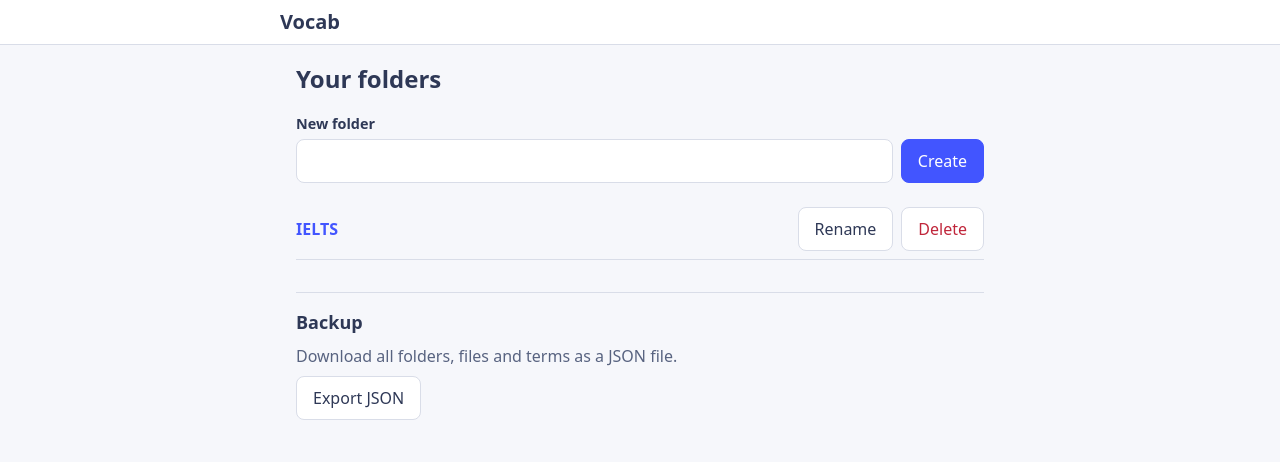
Test: folders › renames in place, and Escape cancels
The image size is (1280, 462).
Click the button named "Rename folder \"IELTS\"". click: x=845, y=229
box: [798,207,893,251]
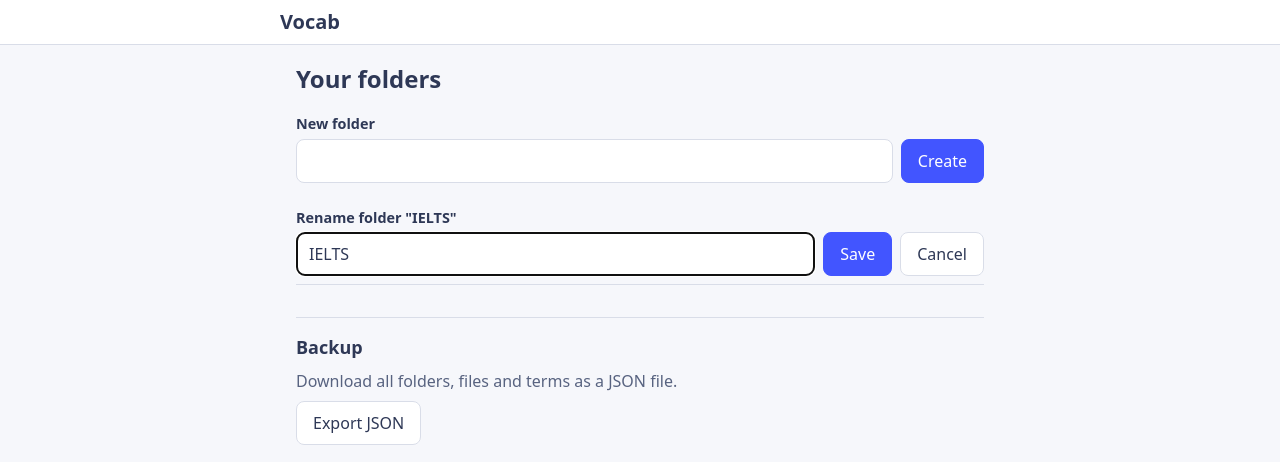
Press Escape in the field labelled "Rename folder \"IELTS\"", box [296,232,815,276]
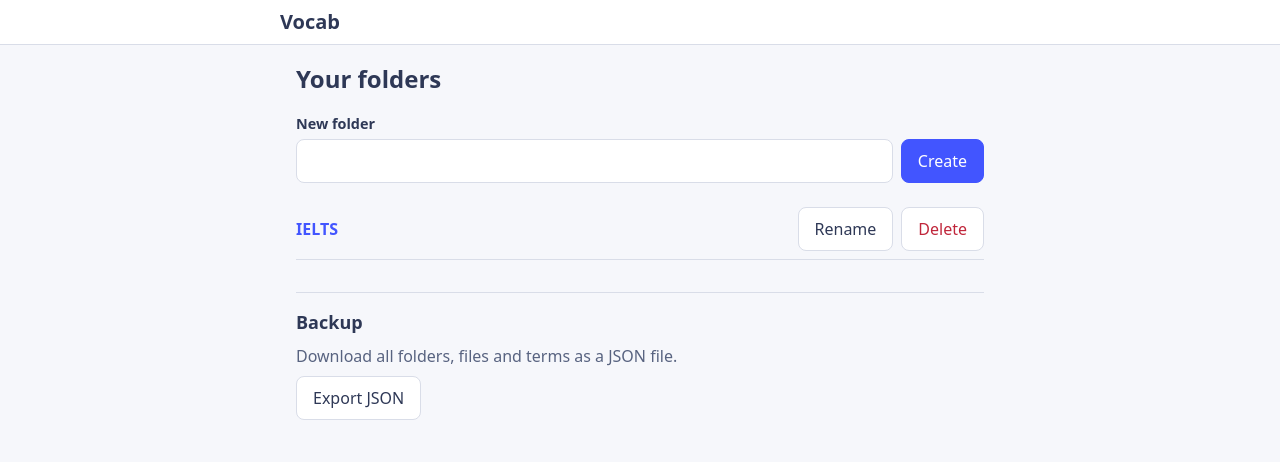
Click the button named "Rename folder \"IELTS\"". click: x=845, y=229
box: [798,207,893,251]
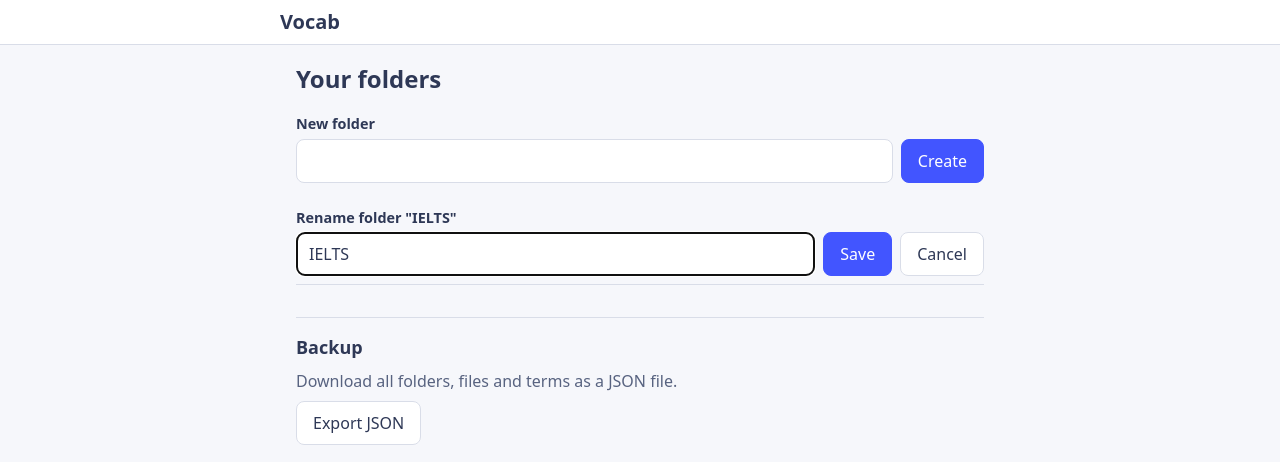
Replace the text in the field labelled "Rename folder \"IELTS\"" with "IELTS Writing". click: x=556, y=254
box: [296,232,815,276]
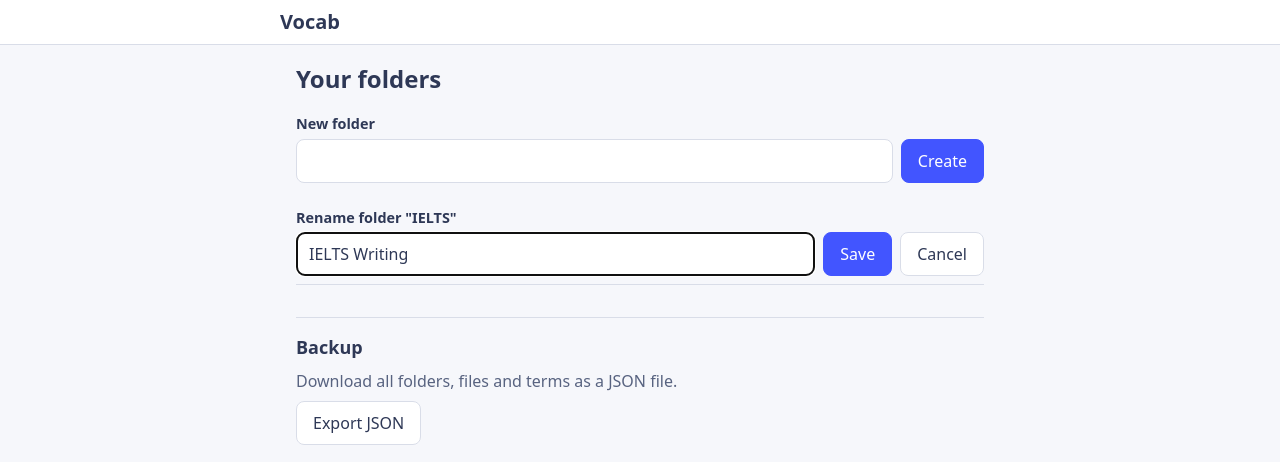
Click the button "Save". click: x=858, y=254
box: [823,232,892,276]
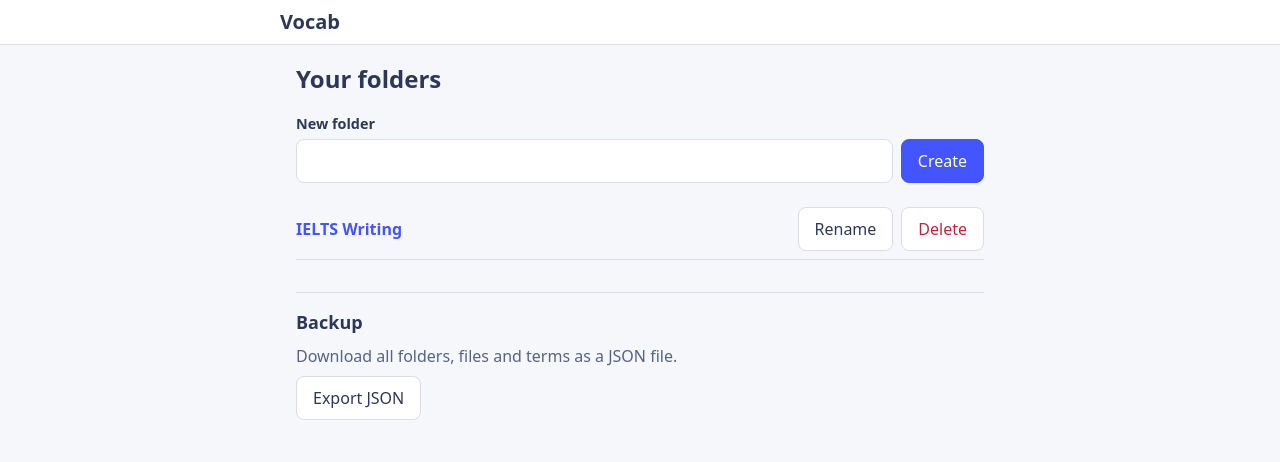
Result: the link "IELTS Writing" is shown at [296,218,402,240]
